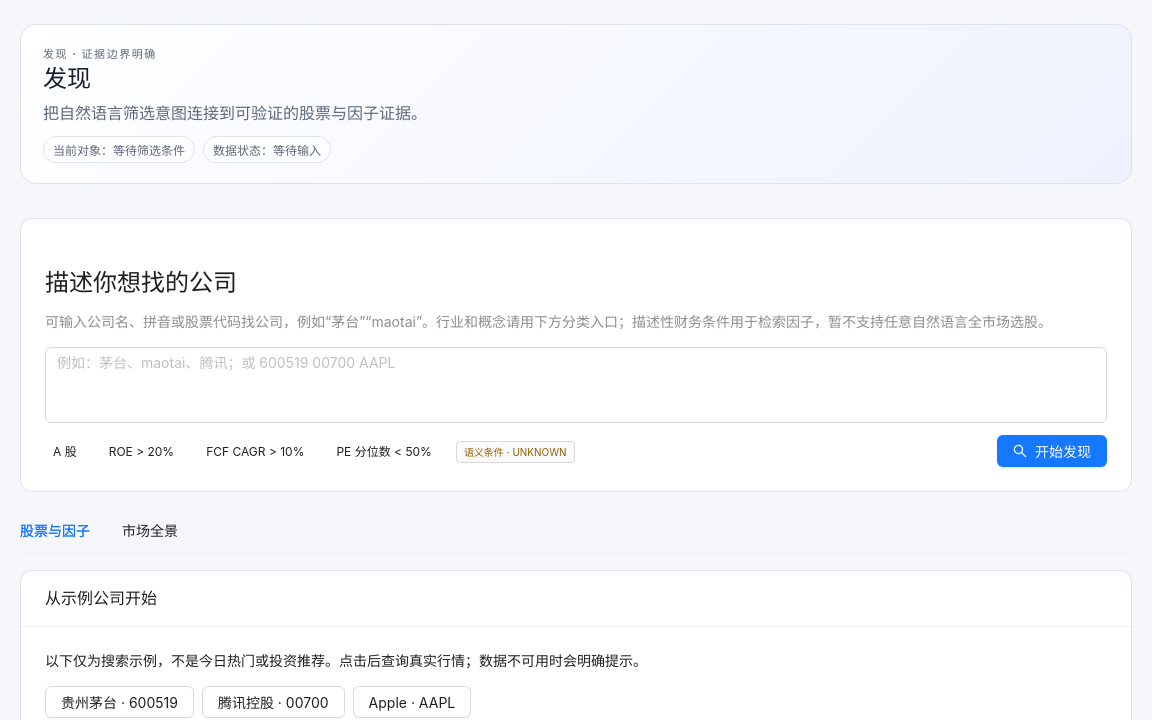
Test: Discover：检索状态按查询词作用域（VS-36） › 公司名检索失败不得被渲染成"没有股票结果"的空态
In the text box named "发现条件": (576, 385) [45,347,1107,423], type "茅台"
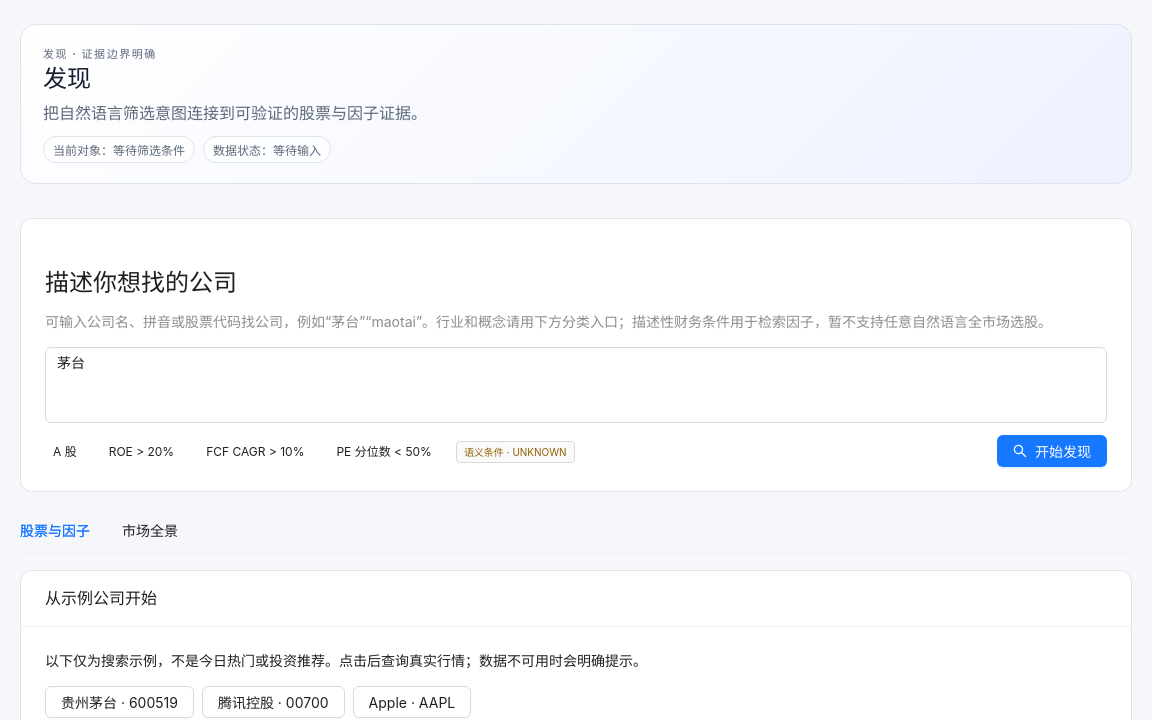
Click the button "开始发现": (1052, 451) [997,435,1107,467]
(page scrolled)
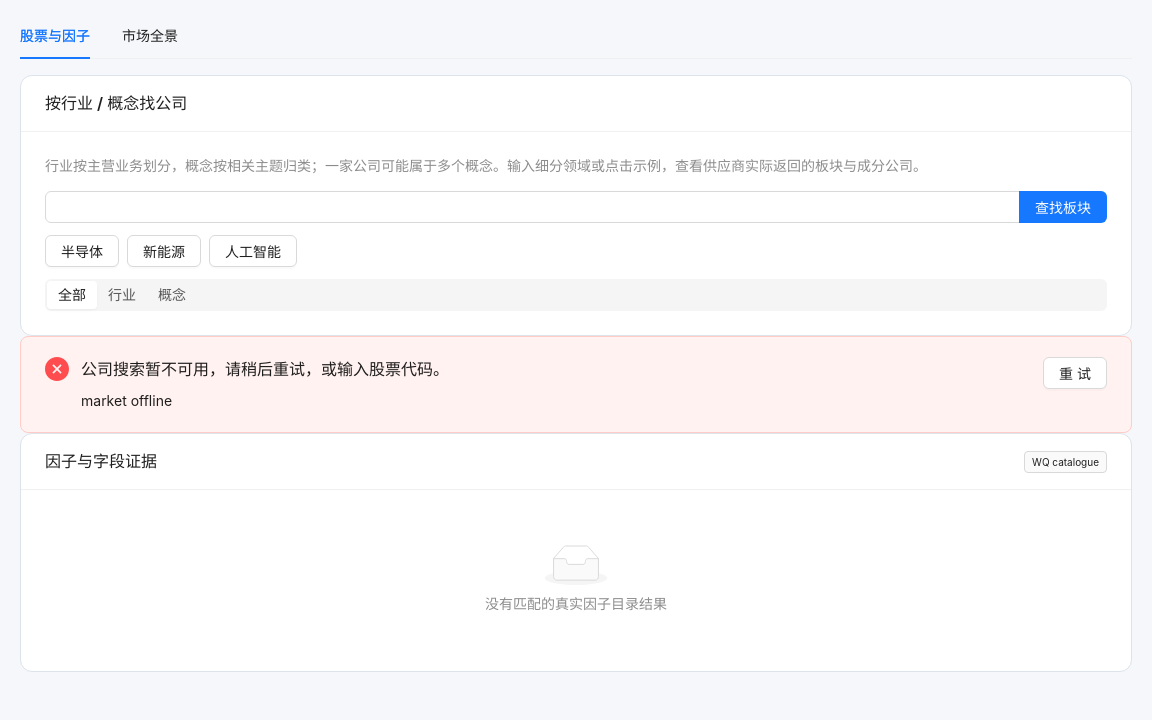
expect the text "公司搜索暂不可用，请稍后重试，或输入股票代码。" is shown: met, box [81,359,449,379]
